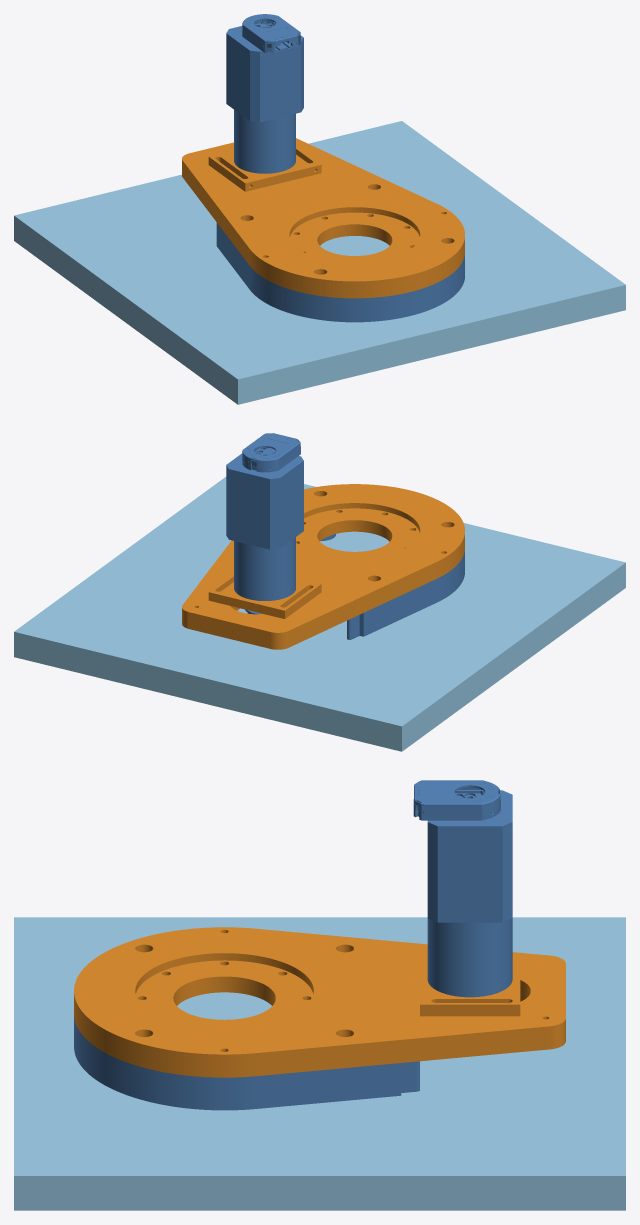
3 renders of one model, top to bottom at view 1: azimuth 30°, elevation 25°; view 2: azimuth 150°, elevation 25°; view 3: azimuth 270°, elevation 25°, orthographic. The views are drawn at different scales.
Visible parts, largest first — view 1: Weighted_Base, J1 Base Plate, Motor 17HS15-1684D-HG10 (×3), J1 Base Enclosure Part 1, J1 & J3 Motor Mount, Encoder AMT-102V (×2); view 2: Weighted_Base, J1 Base Plate, Motor 17HS15-1684D-HG10 (×3), J1 Base Enclosure Part 1, J1 & J3 Motor Mount, Encoder AMT-102V (×2); view 3: Weighted_Base, J1 Base Plate, Motor 17HS15-1684D-HG10 (×3), J1 Base Enclosure Part 1, Encoder AMT-102V (×2), J1 & J3 Motor Mount.
Boxes of the visible parts, x1,y1,x2,y2 form: Weighted_Base: (14,121,625,404); J1 Base Plate: (182,138,464,298); Motor 17HS15-1684D-HG10 (×3): (226,23,303,173); J1 Base Enclosure Part 1: (216,222,464,322); J1 & J3 Motor Mount: (208,146,321,191); Encoder AMT-102V (×2): (242,14,300,53); Weighted_Base: (14,476,625,751); J1 Base Plate: (182,484,464,649); Motor 17HS15-1684D-HG10 (×3): (226,453,303,600); J1 Base Enclosure Part 1: (321,534,464,639); J1 & J3 Motor Mount: (208,573,321,618); Encoder AMT-102V (×2): (242,433,300,472); Weighted_Base: (14,917,625,1210); J1 Base Plate: (74,927,565,1077); Motor 17HS15-1684D-HG10 (×3): (427,790,512,997); J1 Base Enclosure Part 1: (74,1017,419,1110); Encoder AMT-102V (×2): (413,780,500,820); J1 & J3 Motor Mount: (420,954,520,1016).
Size of the model in its own units: 0.3048 by 0.3048 by 0.1592.
